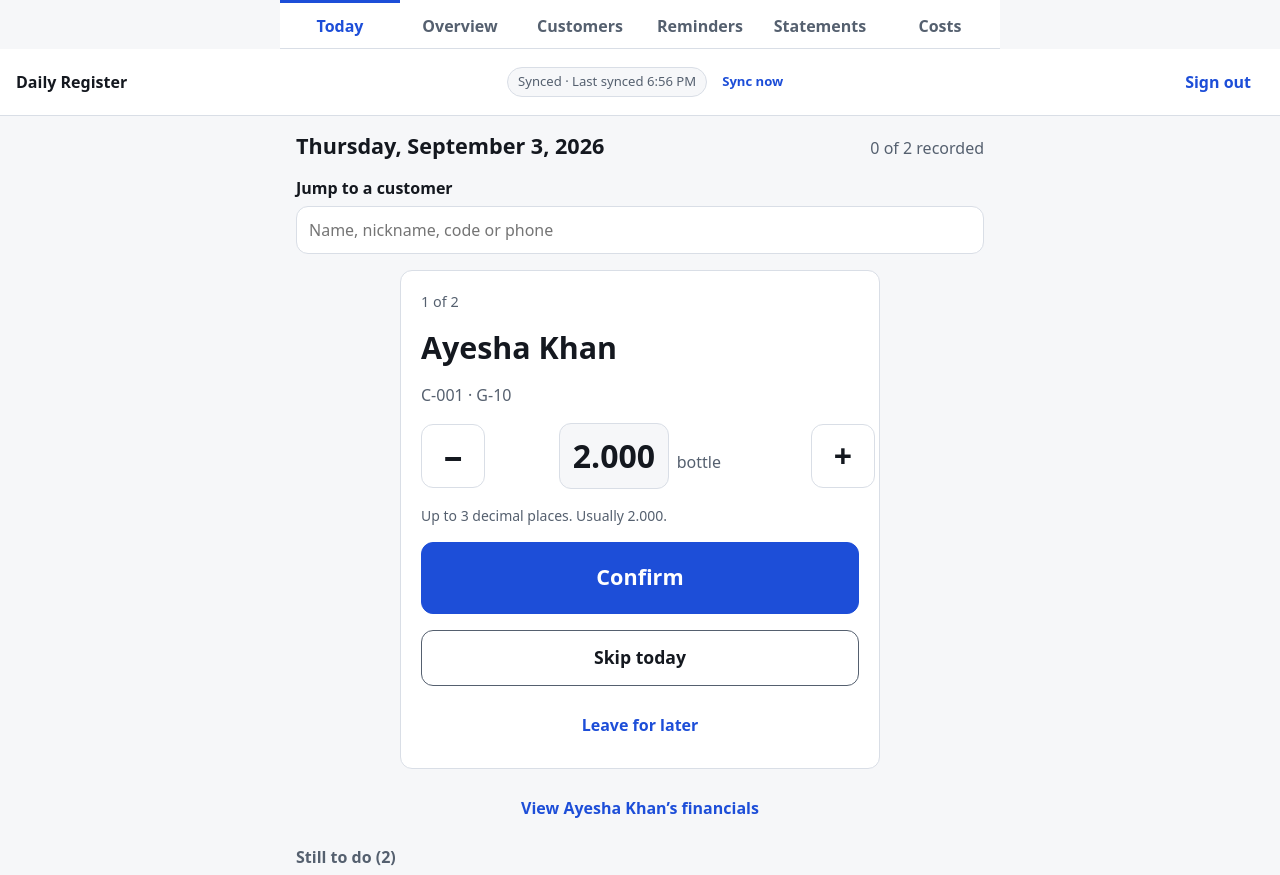
Scenario: confirming service › moves to the next customer when asked
Expected: the heading "Ayesha Khan" is shown, [421, 327, 617, 368]
Click the button "Confirm": point(640, 578) [421, 542, 859, 614]
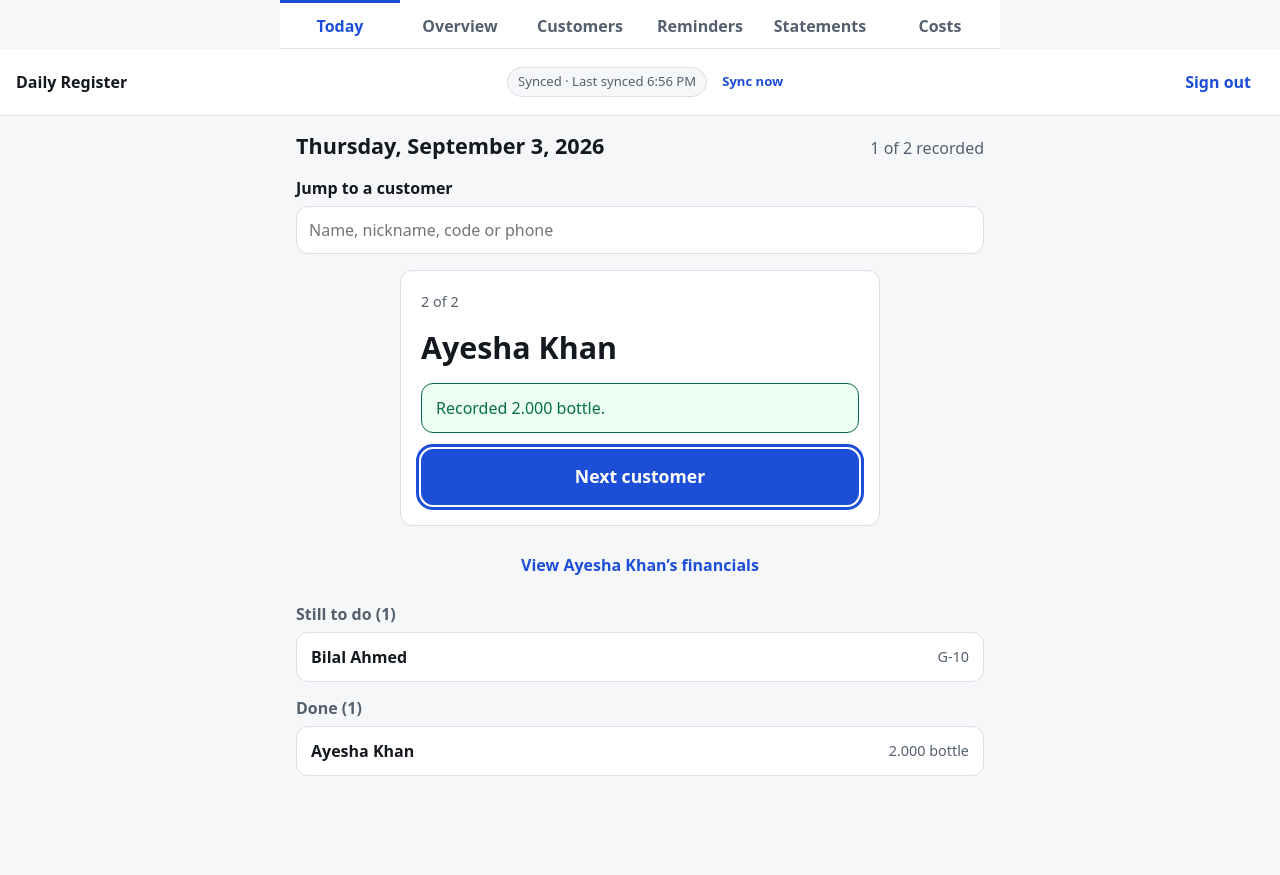
Expected: the button "Next customer" is shown
Click the button "Next customer": point(640, 477) [421, 449, 859, 505]
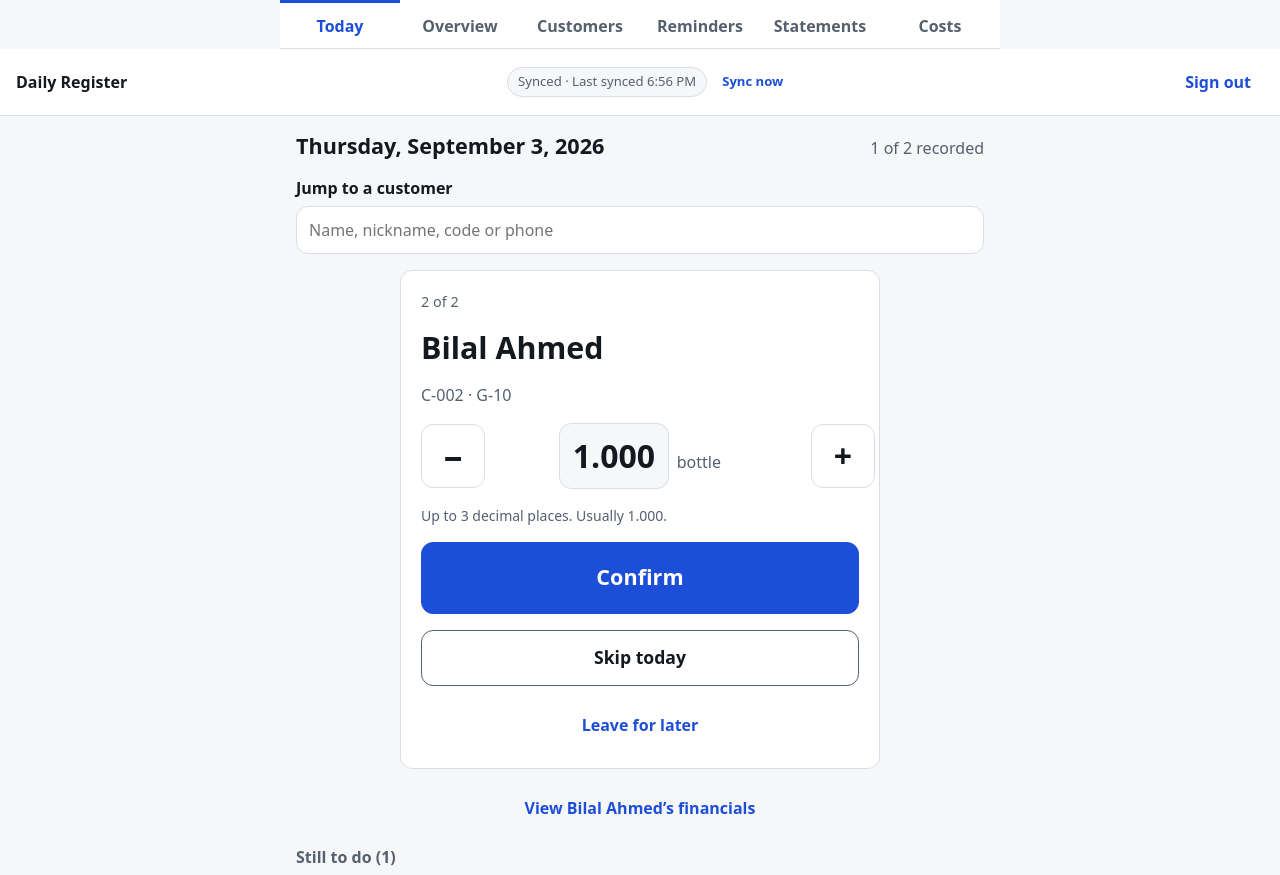
Expected: the heading "Bilal Ahmed" is shown, [421, 327, 604, 368]
